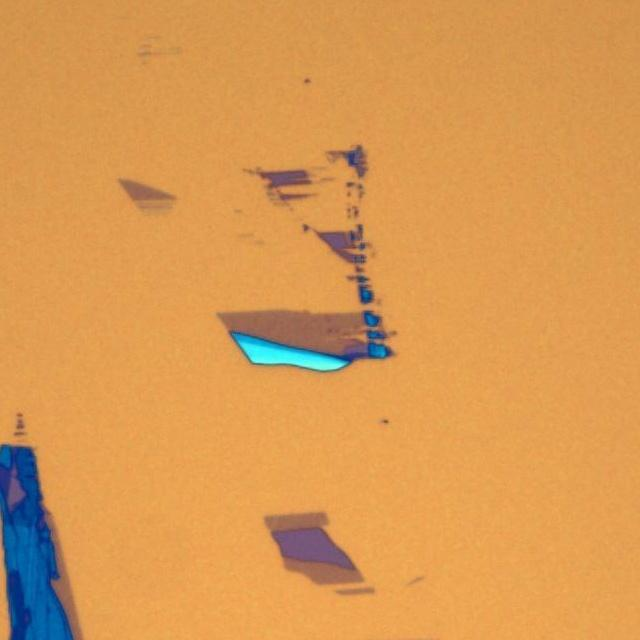monolayer-eWW4: (214, 308, 366, 354), (44, 513, 94, 640), (283, 554, 364, 588), (116, 177, 180, 204), (263, 510, 330, 530)
